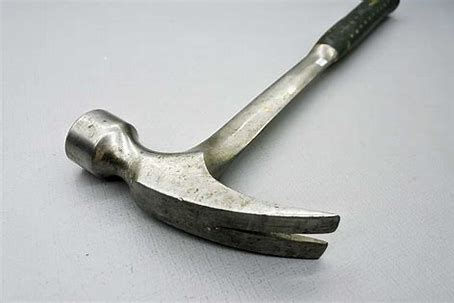martillu: (34, 10, 419, 266)
